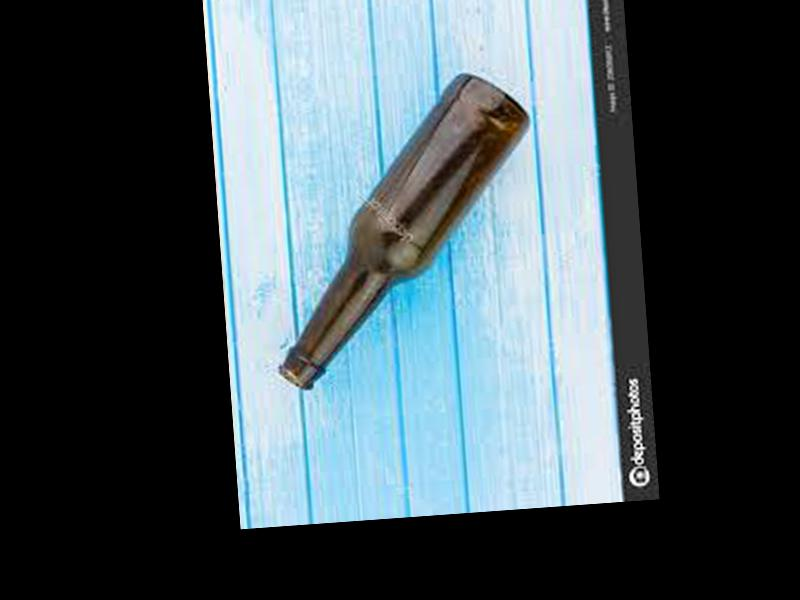Beer: (257, 68, 551, 389)
